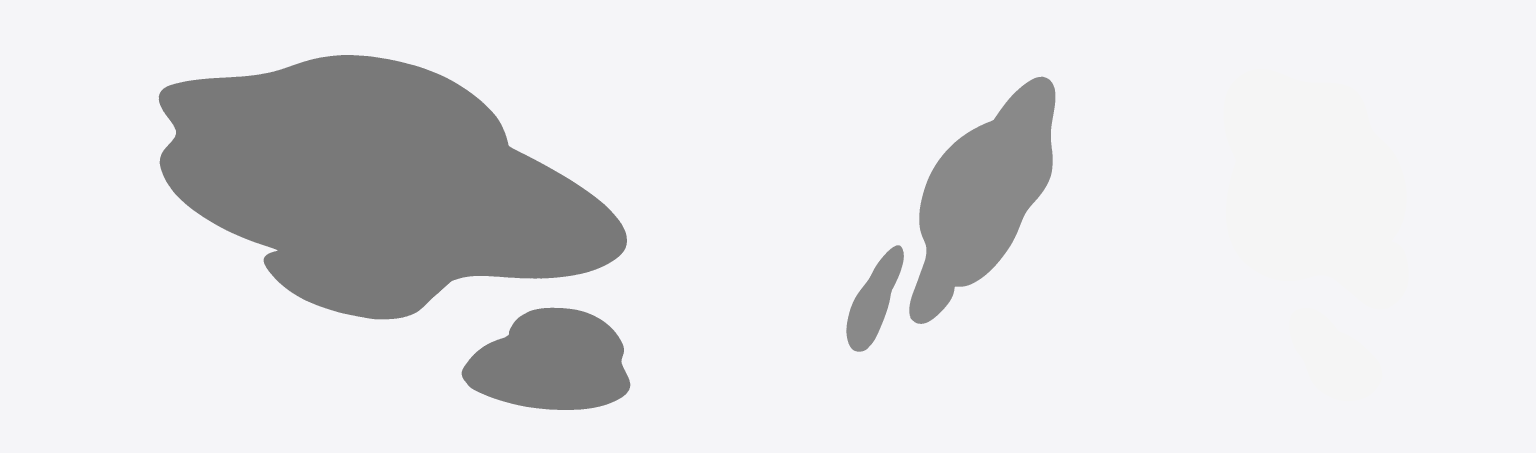
3 views of the same model, side by side, from view 1: azimuth 30°, elevation 25°; view 2: azimuth 150°, elevation 25°; view 3: azimuth 270°, elevation 25° (orthographic). The views are drawn at different scales.
Parts seen in each view (by area): view 1: Plane (1); view 2: Plane (1); view 3: Plane (1).
Part boxes in pixels (<box>): Plane (1): <box>158,55,630,409</box>; Plane (1): <box>846,76,1055,351</box>; Plane (1): <box>1223,69,1408,401</box>.
Size of the model in its own units: 13.76 by 10.07 by 13.76.
Materials: 1 (1 with a texture image).
